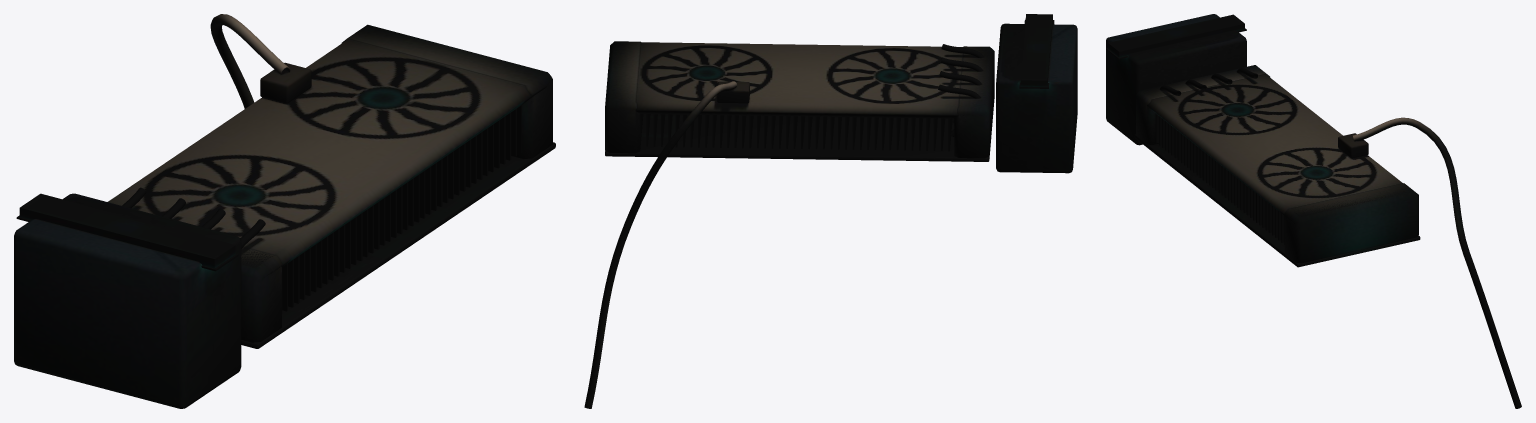
Rendered from machine_body.glb.
3 renders of one model, left to right at view 1: azimuth 30°, elevation 25°; view 2: azimuth 150°, elevation 25°; view 3: azimuth 270°, elevation 25°, orthographic. The views are drawn at different scales.
Visible parts, largest first — view 1: baked_machine_body; view 2: baked_machine_body; view 3: baked_machine_body.
Part boxes in pixels (left/top/right/bottom): baked_machine_body: left=14, top=14, right=555, bottom=408; baked_machine_body: left=584, top=14, right=1077, bottom=408; baked_machine_body: left=1106, top=14, right=1521, bottom=408.
Bounding box in the file's own units: 7.48 × 4.98 × 7.16.
1 material, 1 textured.
